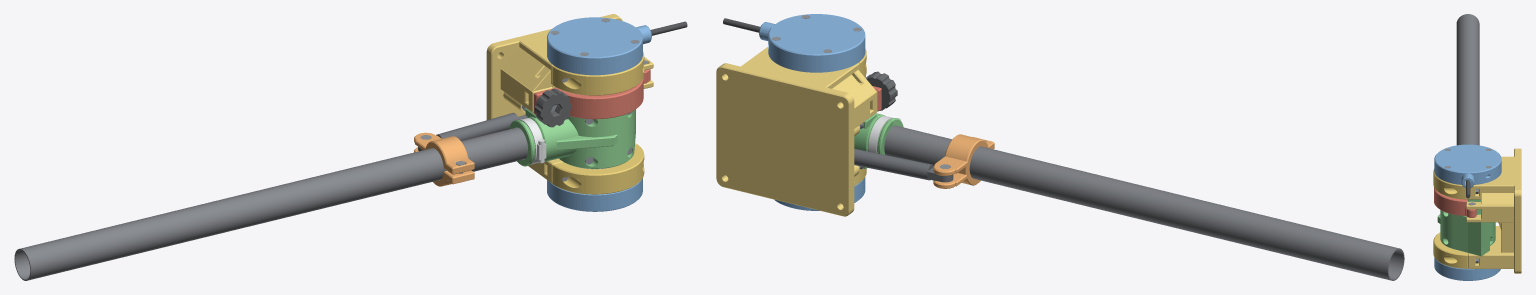
The model's file is MkIII_Rev3_Assembly.glb.
The picture shows the model from 3 angles, left to right: view 1: azimuth 30°, elevation 25°; view 2: azimuth 150°, elevation 25°; view 3: azimuth 270°, elevation 25°; orthographic projection. The views are drawn at different scales.
Parts seen in each view (by area): view 1: carbon_tube, frame, cover_cable, lever_upper, cap_left, shoe, cap_right, strut_collar, cover_sensor, friction_knob, gas_strut, hose_clamp; view 2: frame, carbon_tube, cover_cable, strut_collar, gas_strut, lever_lower, friction_knob; view 3: frame, carbon_tube, cover_cable, lever_upper, lever_lower, cover_sensor, cap_left, shoe, cap_right, hardware, usb_cable.
Part boxes in pixels (x1,y1,x2,y2): carbon_tube: [14, 127, 527, 280]; frame: [486, 14, 653, 183]; cover_cable: [547, 17, 651, 75]; lever_upper: [519, 110, 635, 168]; cap_left: [552, 144, 644, 194]; shoe: [534, 69, 650, 119]; cap_right: [552, 52, 644, 95]; strut_collar: [414, 132, 474, 186]; cover_sensor: [547, 178, 642, 211]; friction_knob: [534, 88, 571, 127]; gas_strut: [418, 112, 527, 151]; hose_clamp: [520, 118, 546, 164]; frame: [716, 46, 877, 216]; carbon_tube: [884, 125, 1404, 280]; cover_cable: [759, 14, 865, 72]; strut_collar: [933, 134, 994, 188]; gas_strut: [854, 148, 953, 182]; lever_lower: [854, 113, 892, 168]; friction_knob: [865, 71, 897, 110]; frame: [1466, 148, 1521, 273]; carbon_tube: [1456, 14, 1479, 145]; cover_cable: [1434, 144, 1501, 188]; lever_upper: [1437, 199, 1467, 252]; lever_lower: [1468, 199, 1495, 256]; cover_sensor: [1434, 257, 1500, 280]; cap_left: [1433, 232, 1467, 268]; shoe: [1434, 187, 1476, 217]; cap_right: [1433, 169, 1467, 199]; hardware: [1444, 148, 1491, 263]; usb_cable: [1466, 180, 1470, 198].
Size of the model in its own units: 583 by 130 by 95.5.
